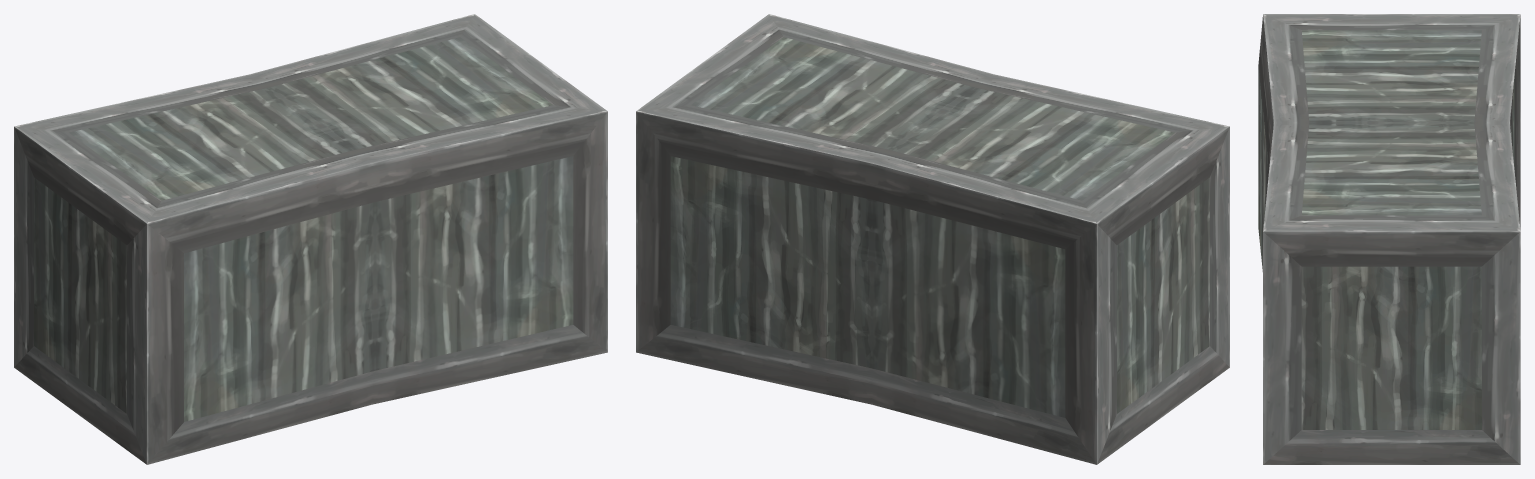
File: ShippingContA.fbx
3 views of the same model, side by side, from view 1: azimuth 30°, elevation 25°; view 2: azimuth 150°, elevation 25°; view 3: azimuth 270°, elevation 25° (orthographic). The views are drawn at different scales.
Parts seen in each view (by area): view 1: ShippingContA; view 2: ShippingContA; view 3: ShippingContA.
Part boxes in pixels (x1=…): ShippingContA: x1=14, y1=14, x2=607, y2=464; ShippingContA: x1=636, y1=14, x2=1229, y2=464; ShippingContA: x1=1258, y1=14, x2=1520, y2=464.
Size of the model in its own units: 200 by 100 by 102.
